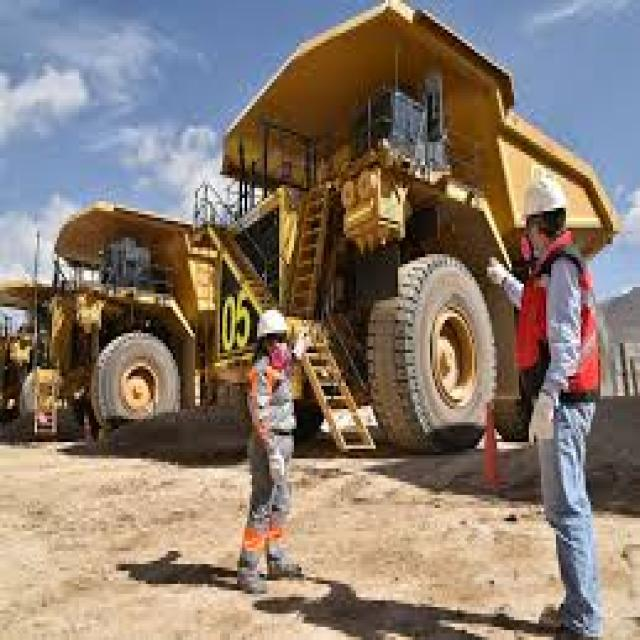dump_truck: (200, 10, 610, 442), (32, 182, 230, 442)
